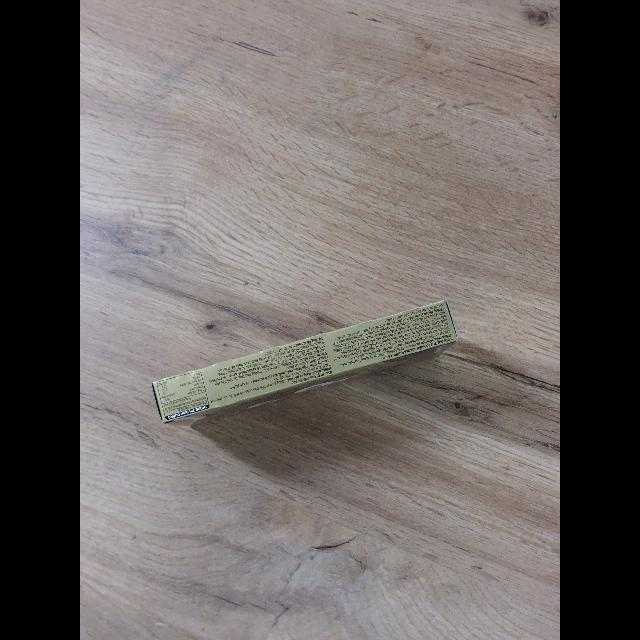banh_toppo_socola: (152, 301, 458, 423)
